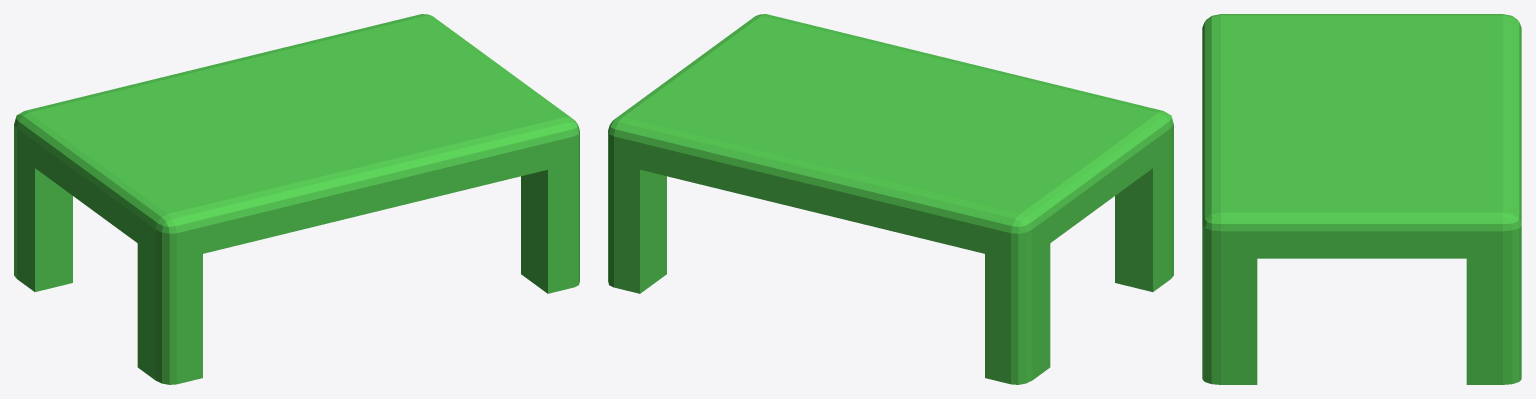
The model's file is banc.fbx.
The picture shows the model from 3 angles, left to right: view 1: azimuth 30°, elevation 25°; view 2: azimuth 150°, elevation 25°; view 3: azimuth 270°, elevation 25°; orthographic projection.
Parts seen in each view (by area): view 1: table; view 2: table; view 3: table.
Boxes of the visible parts, <box> form: table: <box>14,14,579,384</box>; table: <box>608,14,1173,384</box>; table: <box>1202,14,1521,384</box>.
Size of the model in its own units: 128 by 47.51 by 82.64.
